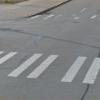Crosswalk: (1, 42, 100, 88)
